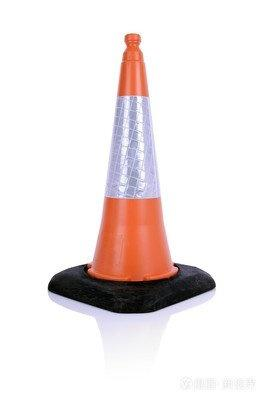cone_barrel: (82, 38, 180, 286)
